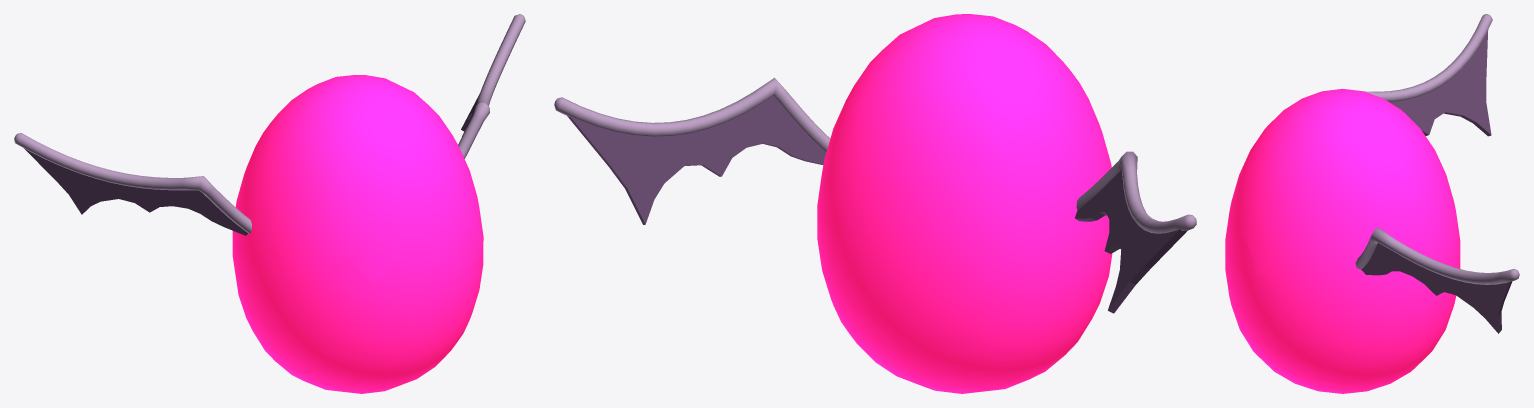
Rendered from eggggggg2.fbx.
3 views of the same model, side by side, from view 1: azimuth 30°, elevation 25°; view 2: azimuth 150°, elevation 25°; view 3: azimuth 270°, elevation 25° (orthographic). The views are drawn at different scales.
Visible parts, largest first — view 1: Cube.001, BezierCurve.001, BezierCurve; view 2: Cube.001, BezierCurve, BezierCurve.001; view 3: Cube.001, BezierCurve.001, BezierCurve.
Boxes of the visible parts, x1,y1,x2,y2 form: Cube.001: (232,75,483,393); BezierCurve.001: (14,133,251,235); BezierCurve: (458,14,525,158); Cube.001: (817,14,1112,393); BezierCurve: (554,77,830,224); BezierCurve.001: (1075,151,1196,313); Cube.001: (1225,88,1460,393); BezierCurve.001: (1364,14,1492,136); BezierCurve: (1355,227,1519,333).
Size of the model in its own units: 193 by 105 by 98.69.
